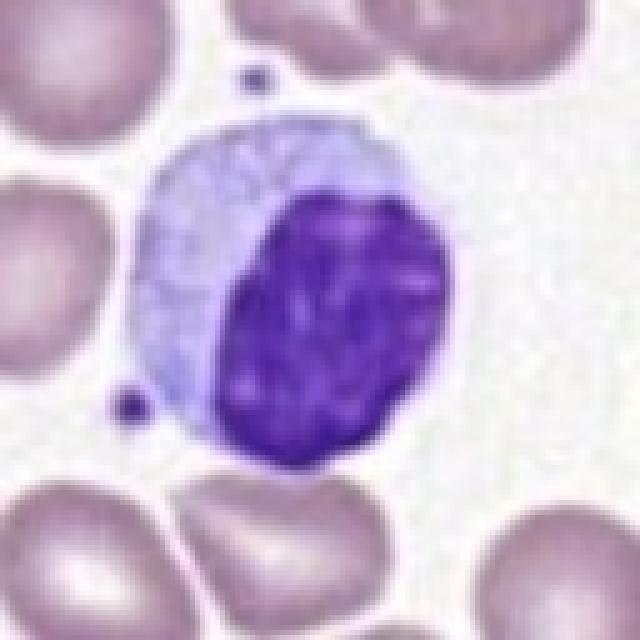lympho: (123, 101, 479, 477)
